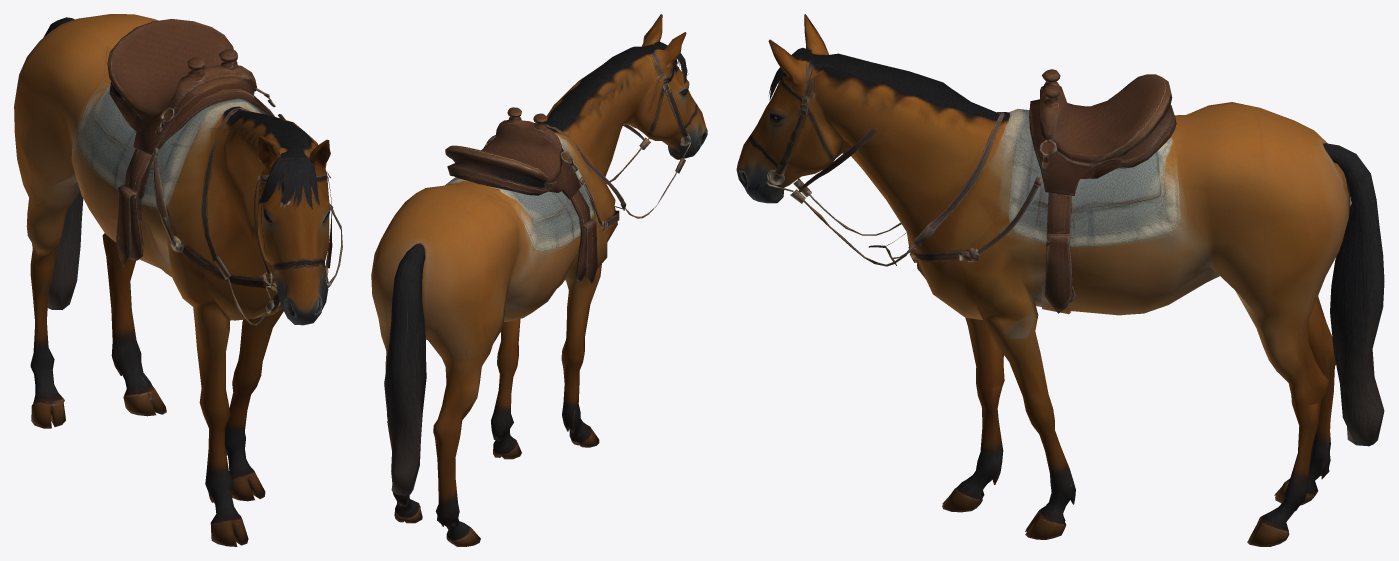
File: beygir.glb
3 views of the same model, side by side, from view 1: azimuth 30°, elevation 25°; view 2: azimuth 150°, elevation 25°; view 3: azimuth 270°, elevation 25° (orthographic). The views are drawn at different scales.
Size of the model in its own units: 0.2925 by 0.7632 by 0.957.
1 material, 1 textured.
